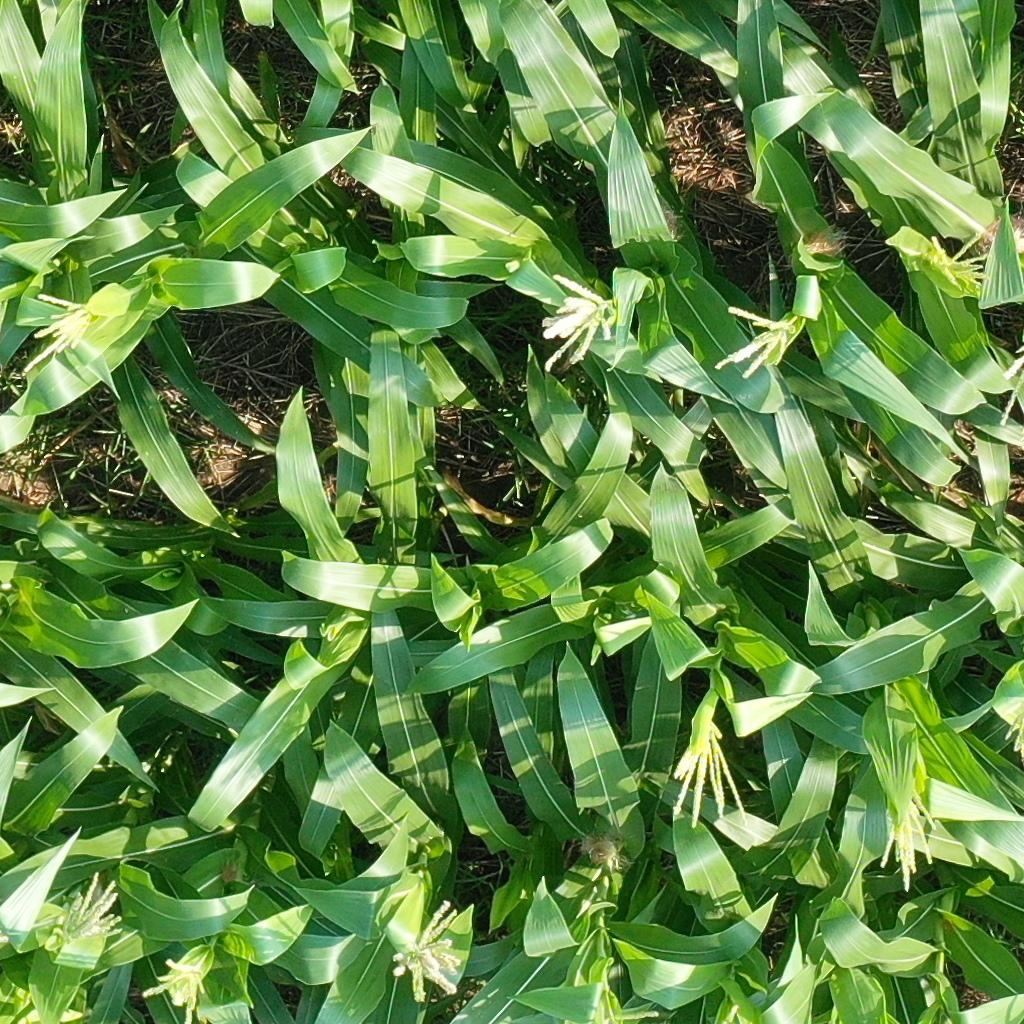Tassel: (532, 268, 643, 380), (667, 719, 750, 827), (382, 899, 465, 1005), (14, 292, 105, 375), (712, 300, 810, 376), (878, 783, 943, 892), (49, 870, 128, 952), (919, 213, 996, 295), (143, 955, 212, 1024), (992, 335, 1024, 426), (598, 1002, 663, 1024), (1003, 703, 1024, 763)
